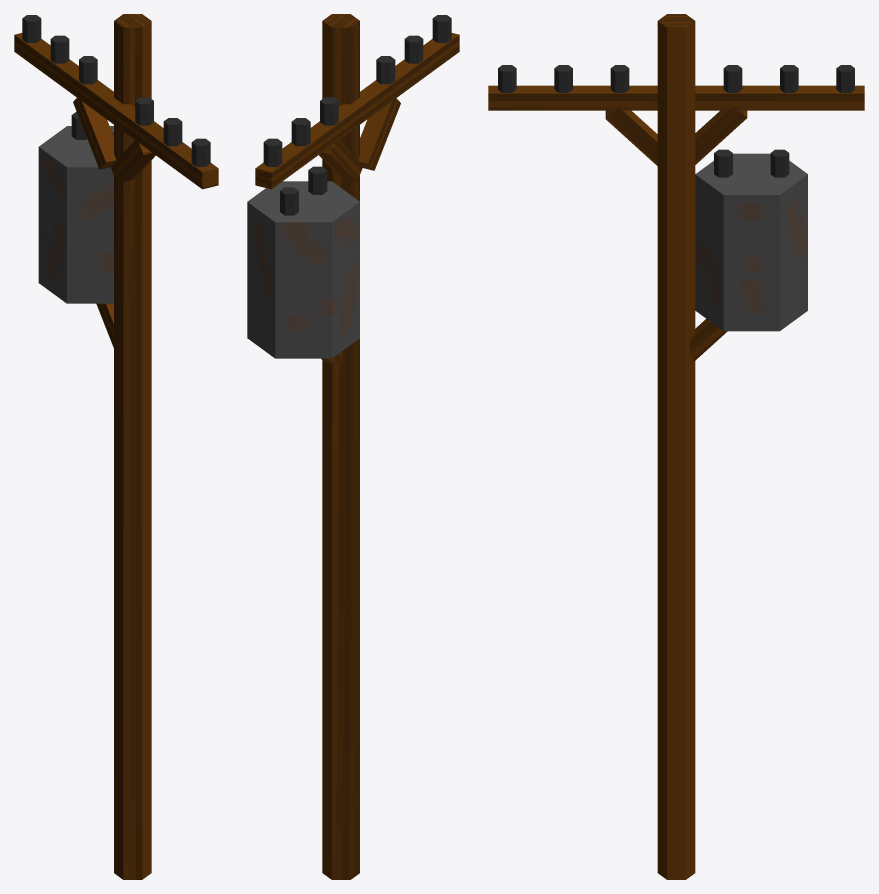
Rendered from ElectricPole1.fbx.
3 renders of one model, left to right at view 1: azimuth 30°, elevation 25°; view 2: azimuth 150°, elevation 25°; view 3: azimuth 270°, elevation 25°, orthographic.
Visible parts, largest first — view 1: Cylinder, Cylinder.001, Cylinder.002; view 2: Cylinder, Cylinder.001, Cylinder.002; view 3: Cylinder, Cylinder.001, Cylinder.002.
Part boxes in pixels (<box>): Cylinder: <box>14,14,218,879</box>; Cylinder.001: <box>38,126,113,303</box>; Cylinder.002: <box>22,15,210,166</box>; Cylinder: <box>255,14,459,879</box>; Cylinder.001: <box>247,181,359,358</box>; Cylinder.002: <box>263,15,451,215</box>; Cylinder: <box>488,14,864,879</box>; Cylinder.001: <box>695,153,807,331</box>; Cylinder.002: <box>498,65,854,177</box>.
Size of the model in its own units: 260 by 2500 by 1000.
